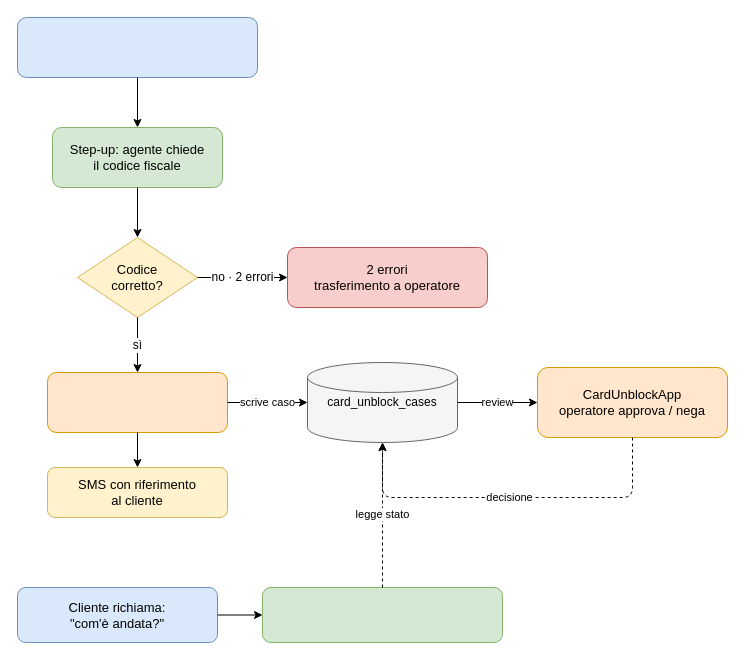
The diagram is 745 pixels wide and 660 high, and some of its shapes have lost their labels. Here are the shapes that lost their labels. From the top down, the centre of each, then its label:
the point at 137,47: Cliente autenticato, carta bloccata: "sbloccatela"
the point at 137,402: Crea richiesta di sblocco stato: in attesa
the point at 382,614: Verifica stato → approvata / negata / in attesa
